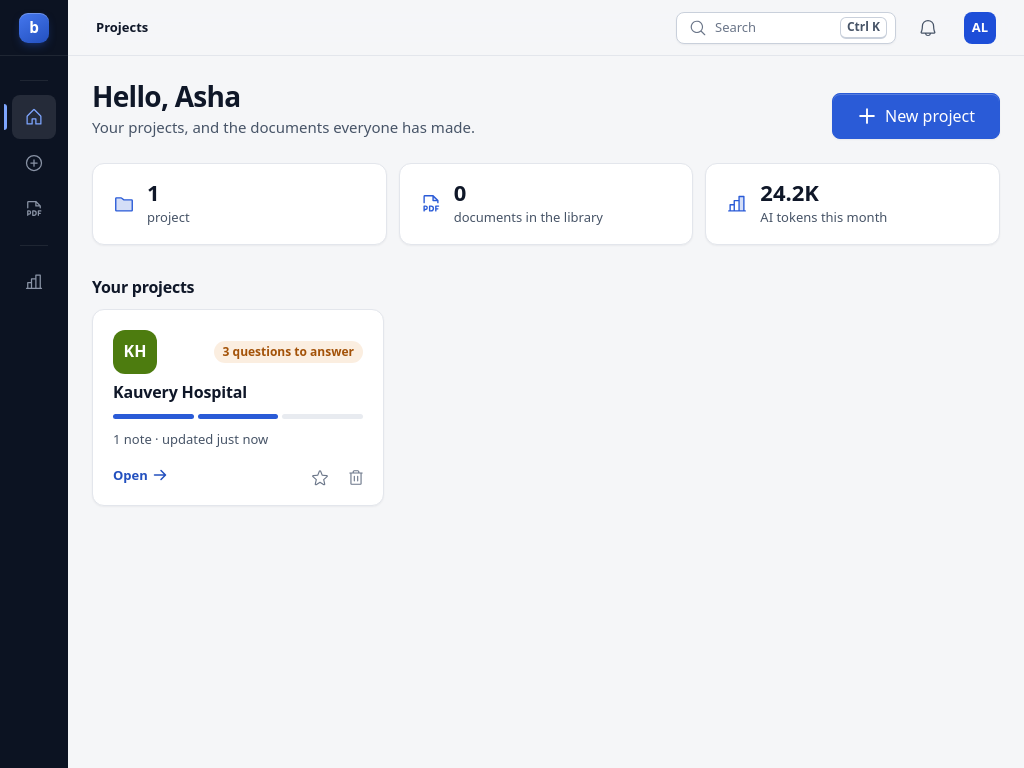
Test: changing your own password › says why when the current password is wrong, and keeps the dialog open
Click the button with aria-label "Account menu" at (980, 28), box [960,8,1000,48]
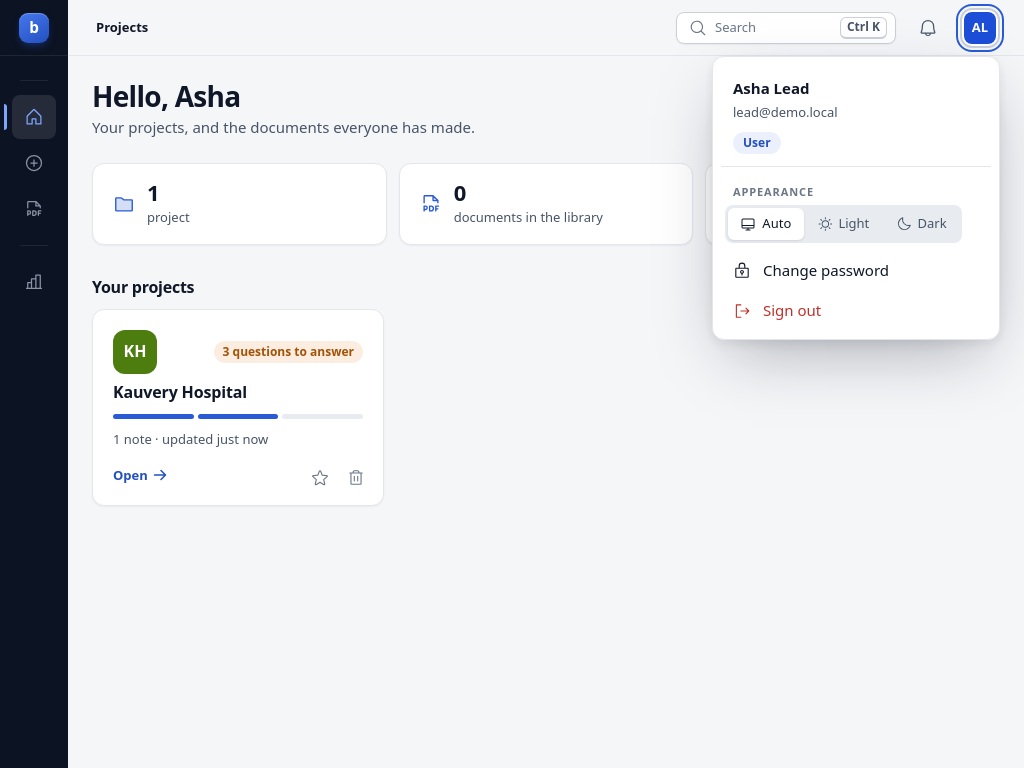
Click the menu item "Change password" at (856, 270), box [721,250,991,290]
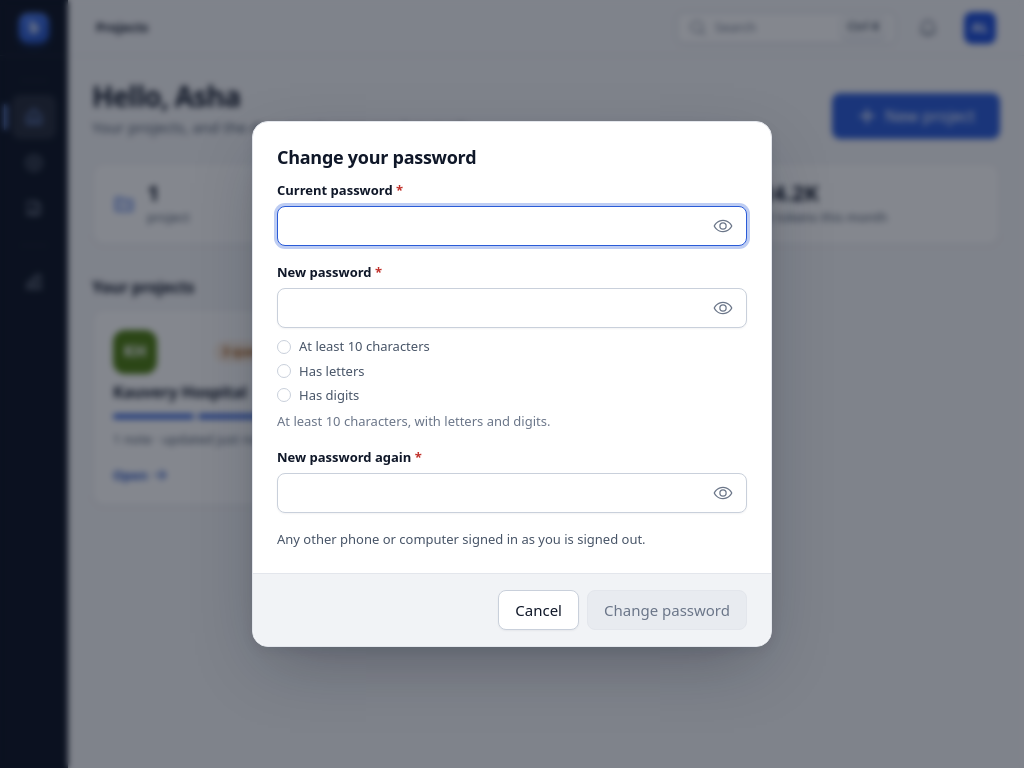
Type "Wrong-Passw0rd-1" into the password field labelled "Current password" at (512, 226), box [277,206,747,246]
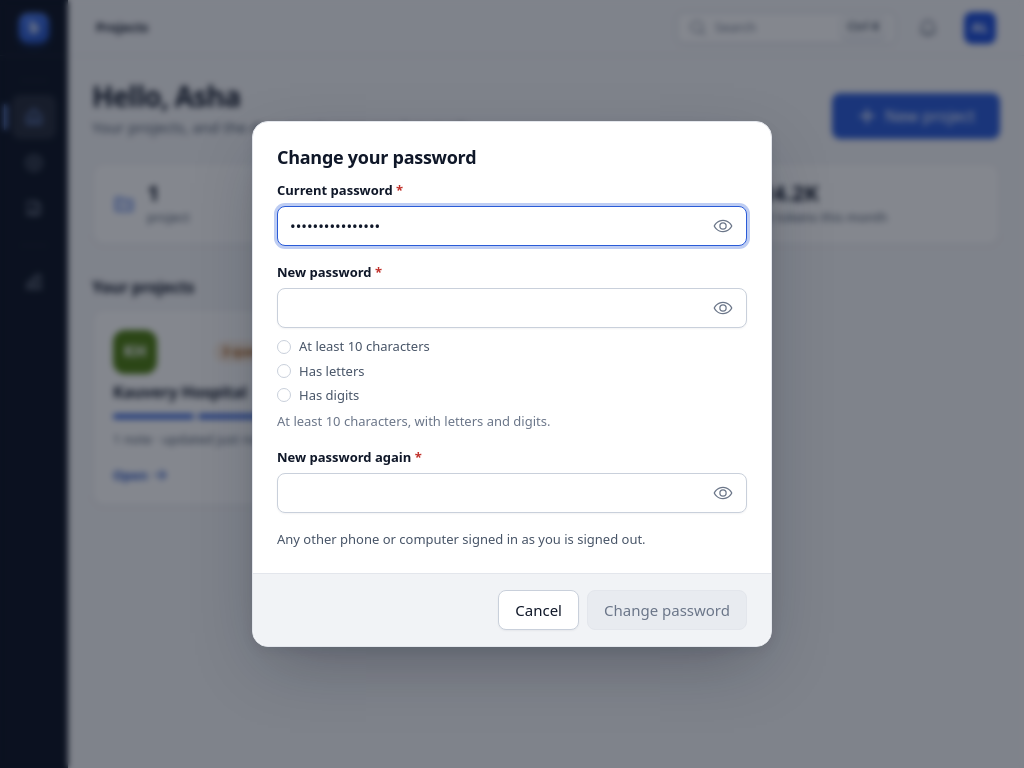
Type "New-Passw0rd-123" into the password field labelled "New password" at (512, 308), box [277,288,747,328]
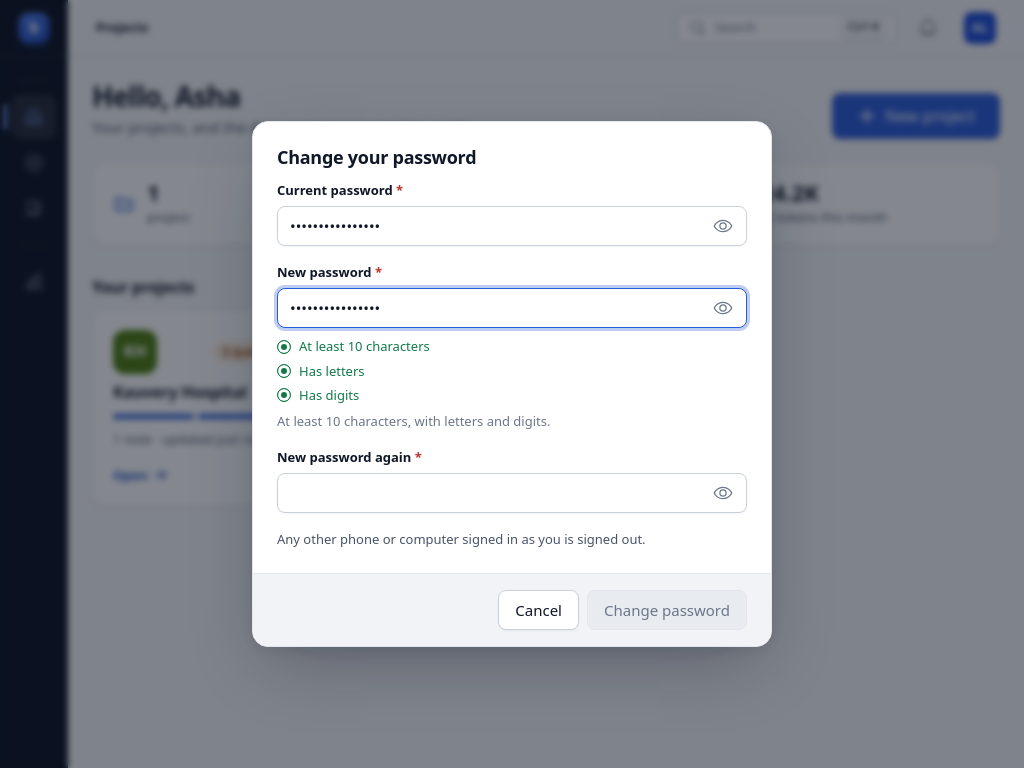
Type "New-Passw0rd-123" into the password field labelled "New password again" at (512, 493), box [277,473,747,513]
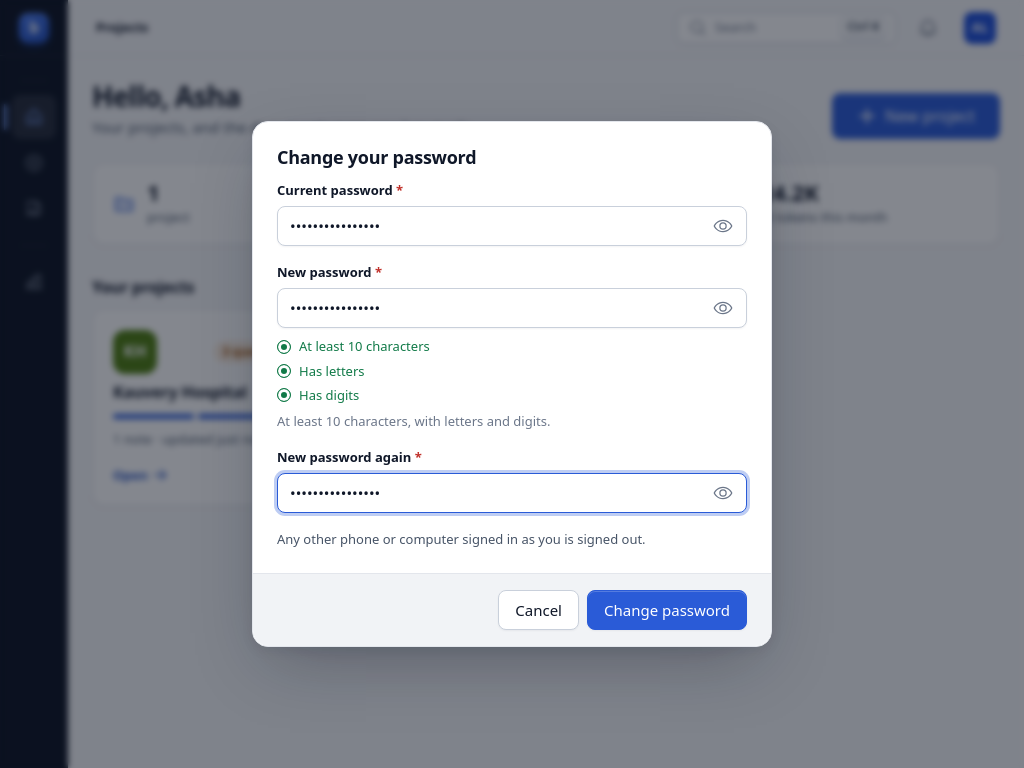
Click the button "Change password" at (667, 610), box [587,590,747,630]
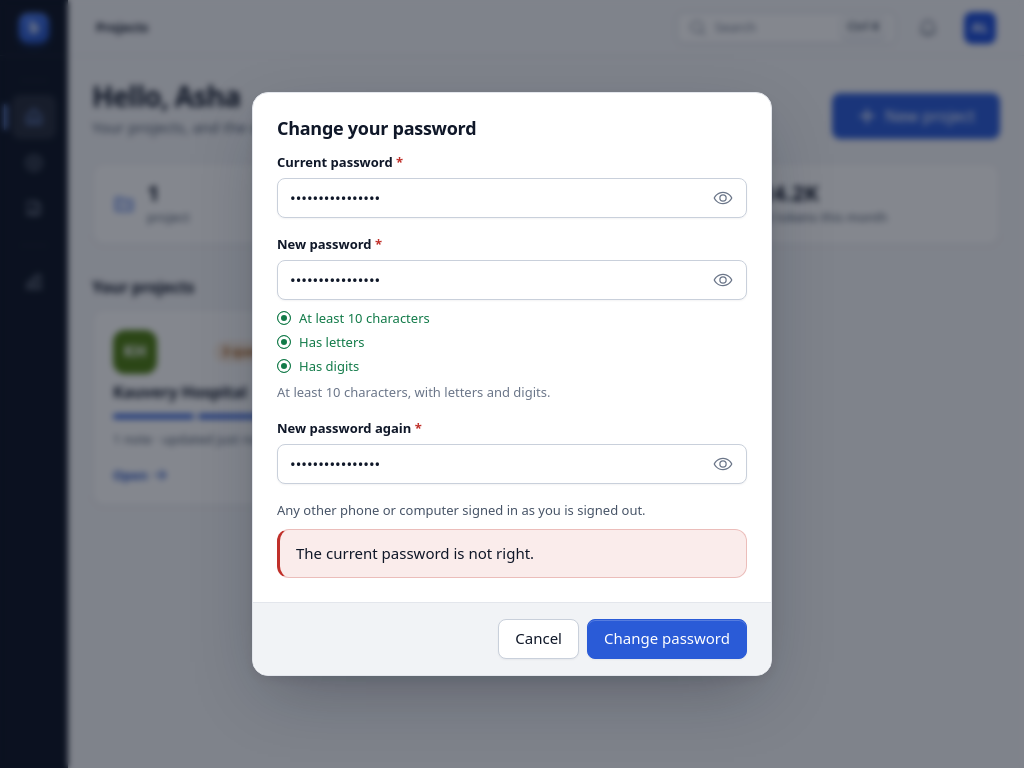
Now the message reads "The current password is not right.", box [296,543,534,563]
